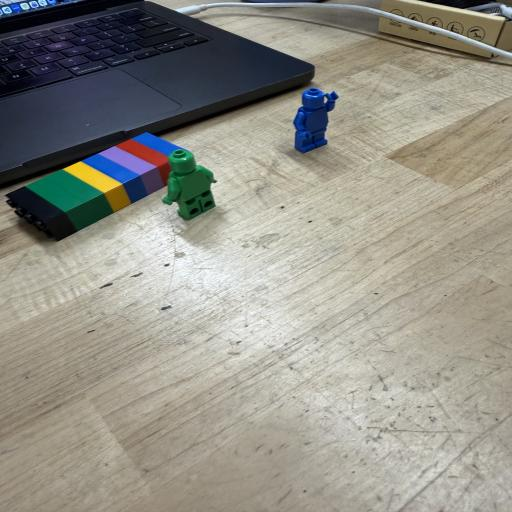blue-minifig: (313, 117, 512, 196), (293, 88, 338, 153)
green-minifig: (163, 149, 216, 219), (168, 149, 196, 175)
